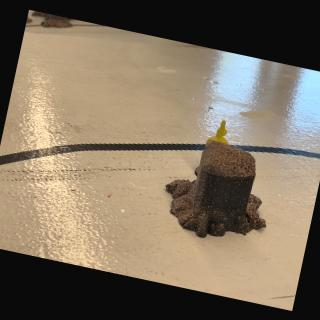teletubby: (205, 120, 228, 147)
